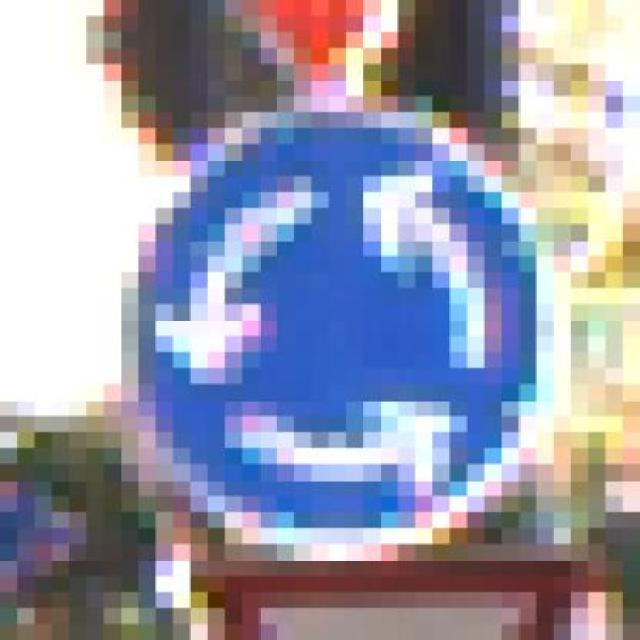Round-About: (52, 96, 622, 576)
